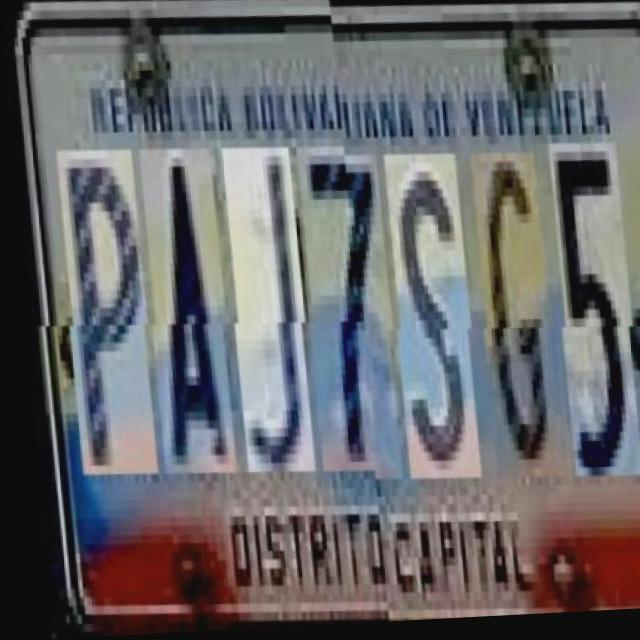5: (544, 142, 637, 482)
7: (293, 153, 397, 484)
a: (135, 156, 231, 485)
g: (466, 151, 554, 480)
j: (219, 154, 311, 484)
p: (54, 155, 153, 487)
s: (380, 153, 476, 483)
